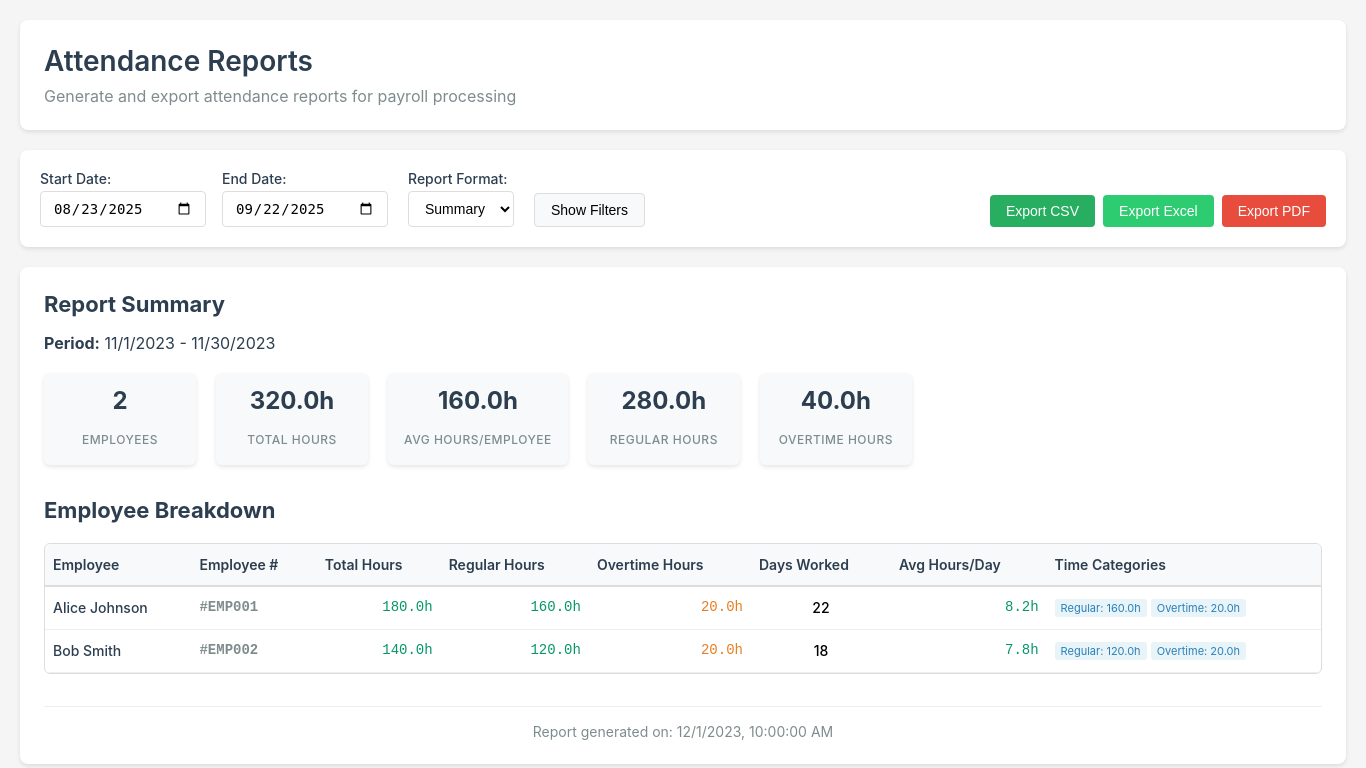
Test: AttendanceReports Integration › toggles employee filters visibility
Check: the text "Employee Selection" is not shown
Show filters
Click the button "Show Filters" at (590, 210), box [534,193,645,227]
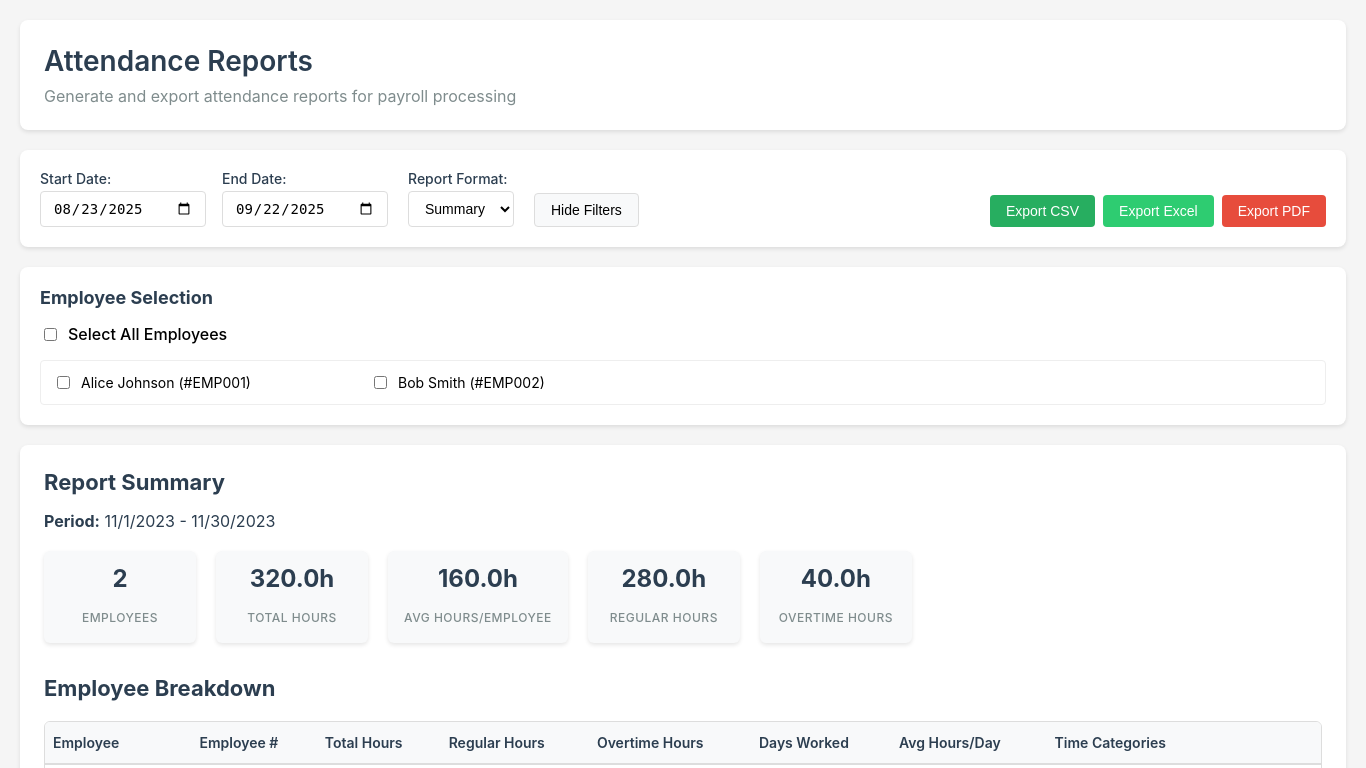
Check: the heading "Employee Selection" is shown, box [40,287,213,308]
Check: the button "Hide Filters" is shown
Hide filters
Click the button "Hide Filters" at (586, 210), box [534,193,639,227]
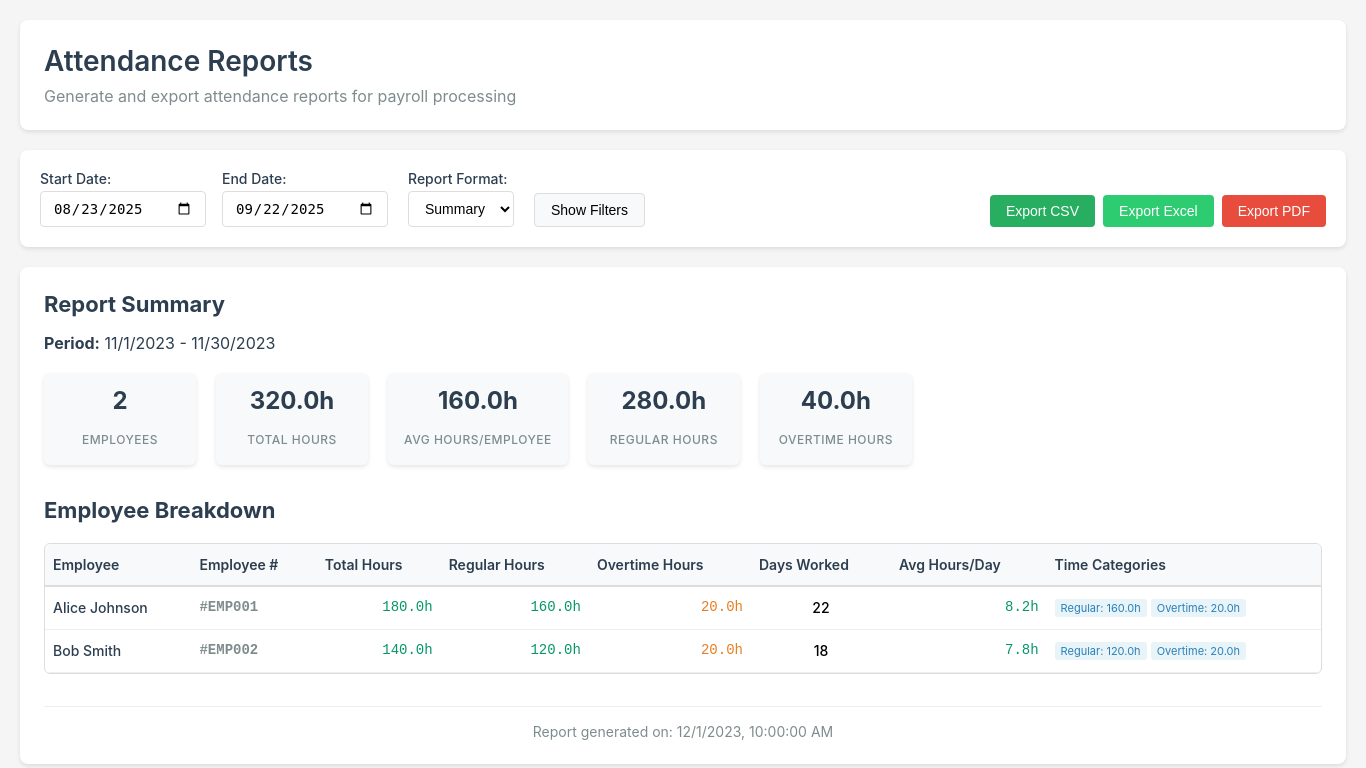
Check: the heading "Employee Selection" is gone
Check: the button "Show Filters" is shown, box [534,193,645,227]
